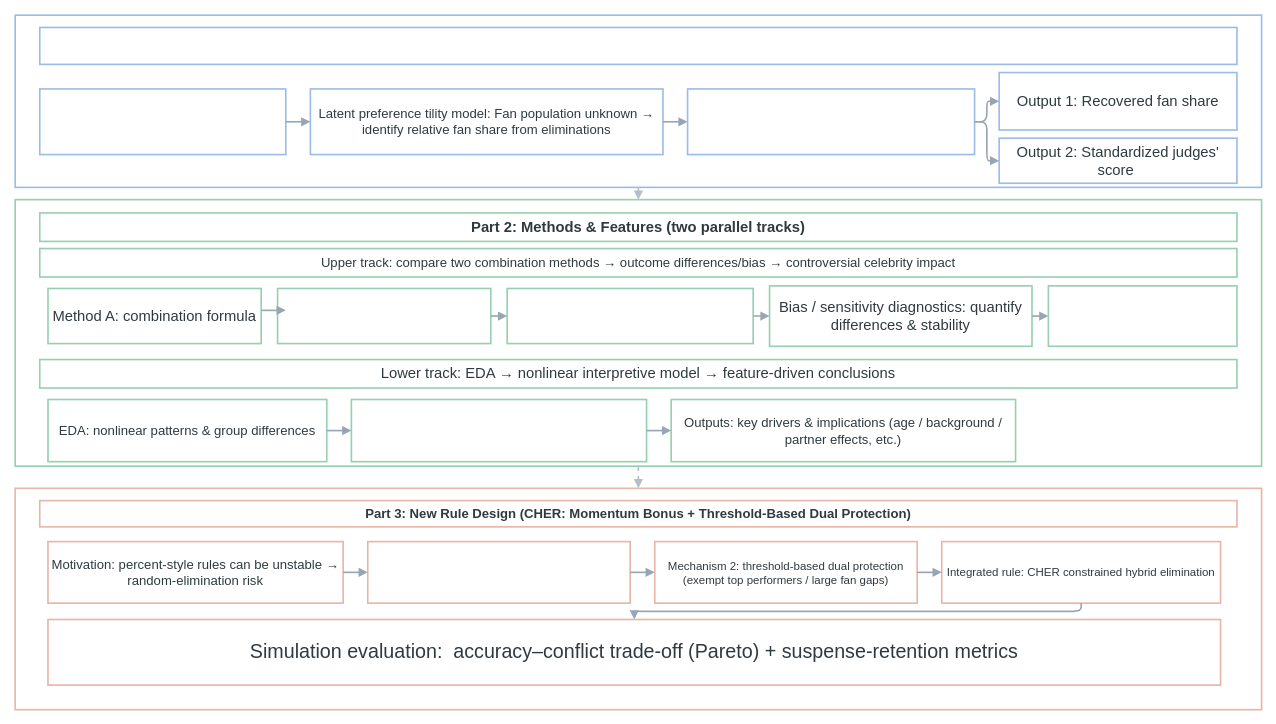
This 1276x724 diagram has some shape labels left out. Here are the shapes that lost their labels. From the top down, the box of each, then its label:
(39, 26, 1237, 65): Part 1: Model Construction (Recover Fan Share & Standardize Judges' Scores)
(39, 88, 286, 155): Inputs: Elimination outcomes + weekly judges' totals + season/week index
(686, 88, 975, 155): Estimation: constraint-based parameter fitting (MLE-style)
(276, 287, 491, 344): Method B:combination formula
(506, 287, 754, 344): Counterfactual simulation: full-sample comparison
(1047, 285, 1237, 347): Case study: controversial celebrities (+ optional judge re-screening discussion)
(350, 398, 647, 462): Nonlinear interpretive model: interactions & thresholds
(367, 540, 631, 604): Mechanism 1: momentum bonus (retain scale/trend information)
